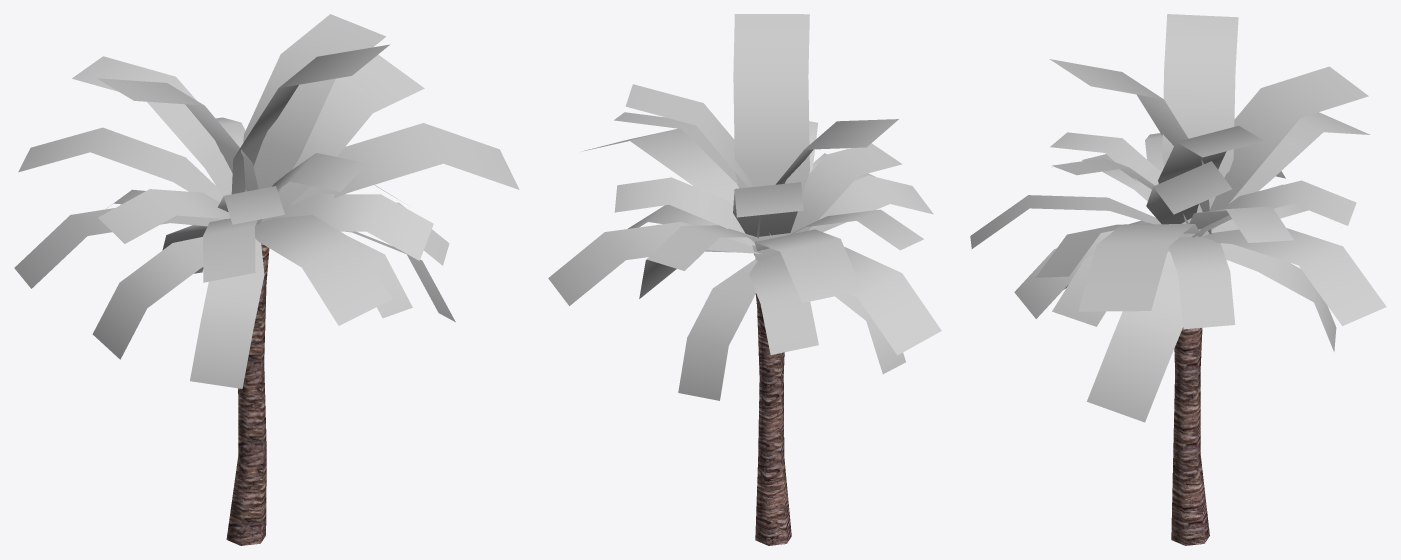
3 views of the same model, side by side, from view 1: azimuth 30°, elevation 25°; view 2: azimuth 150°, elevation 25°; view 3: azimuth 270°, elevation 25° (orthographic). The views are drawn at different scales.
Visible parts, largest first — view 1: Model::blend_root; view 2: Model::blend_root; view 3: Model::blend_root.
Boxes of the visible parts, bbox=[...] form: Model::blend_root: bbox=[14, 14, 519, 545]; Model::blend_root: bbox=[548, 14, 941, 545]; Model::blend_root: bbox=[970, 14, 1386, 545].
Bounding box in the file's own units: 3144 × 3533 × 2689.
